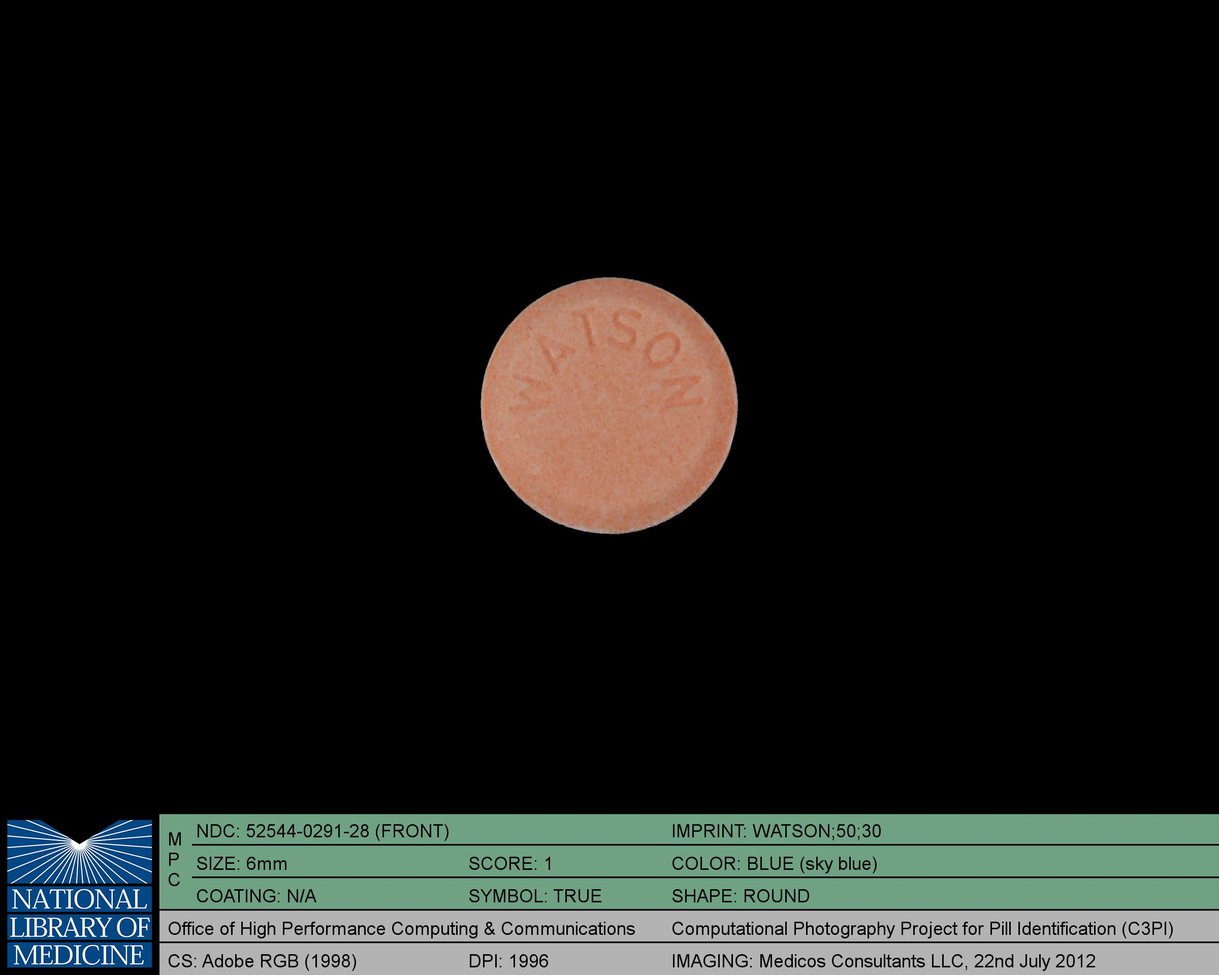Pill: (467, 266, 748, 550)
